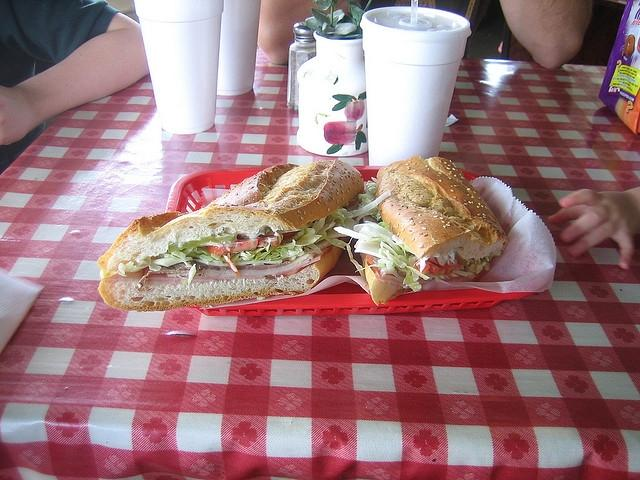lettuce: (342, 191, 391, 219), (334, 226, 384, 243), (314, 220, 336, 244), (382, 250, 408, 268), (358, 226, 389, 240), (380, 241, 402, 260), (170, 250, 193, 268), (181, 246, 203, 256), (280, 239, 296, 250), (276, 250, 300, 257), (272, 246, 288, 252)
tomato: (206, 235, 280, 255), (414, 256, 464, 276)
